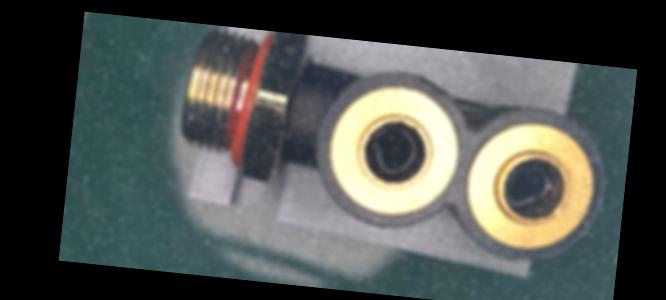bump: (410, 75, 455, 101)
off-centered: (363, 123, 423, 177), (498, 160, 560, 211)
white mark: (290, 121, 306, 134)
